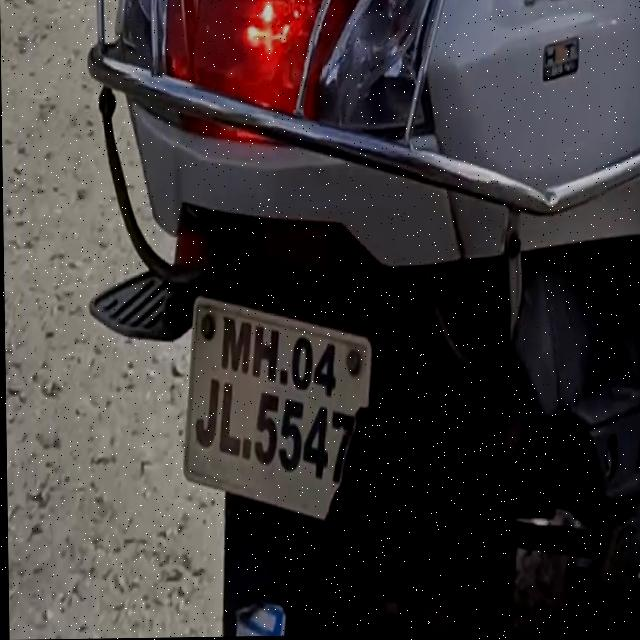plate: (181, 291, 373, 557)
